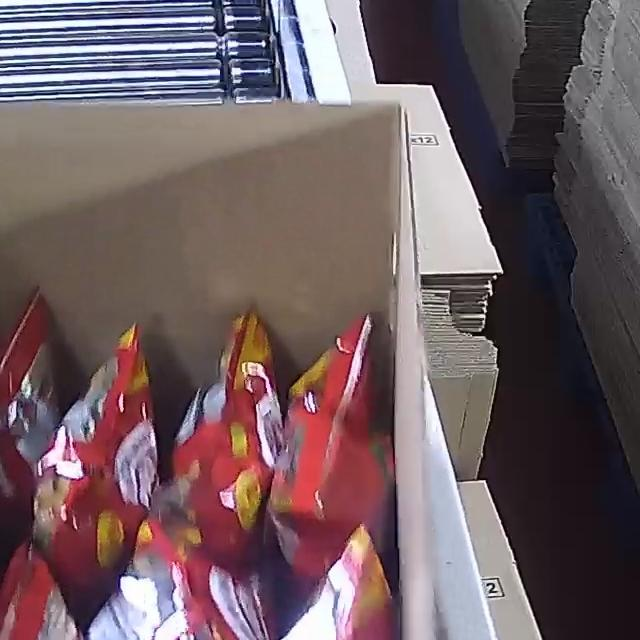masala: (0, 288, 405, 640)
